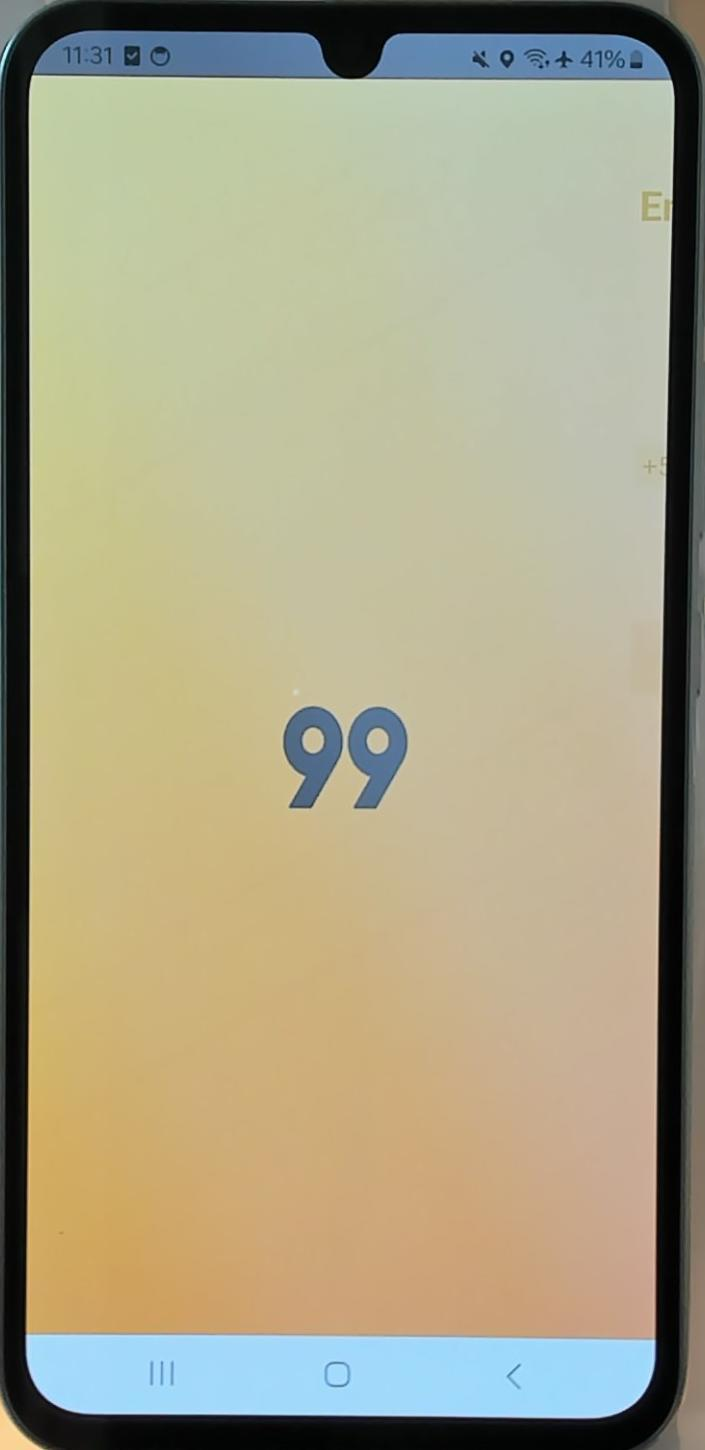CommunBotton: (496, 1346, 548, 1402), (142, 1346, 190, 1400), (316, 1352, 362, 1404)
